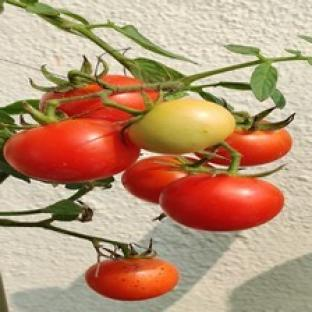Tomato: (5, 119, 139, 182), (161, 175, 284, 231), (130, 98, 235, 154), (85, 258, 178, 300), (122, 155, 188, 203), (226, 129, 292, 165), (58, 98, 132, 122)
